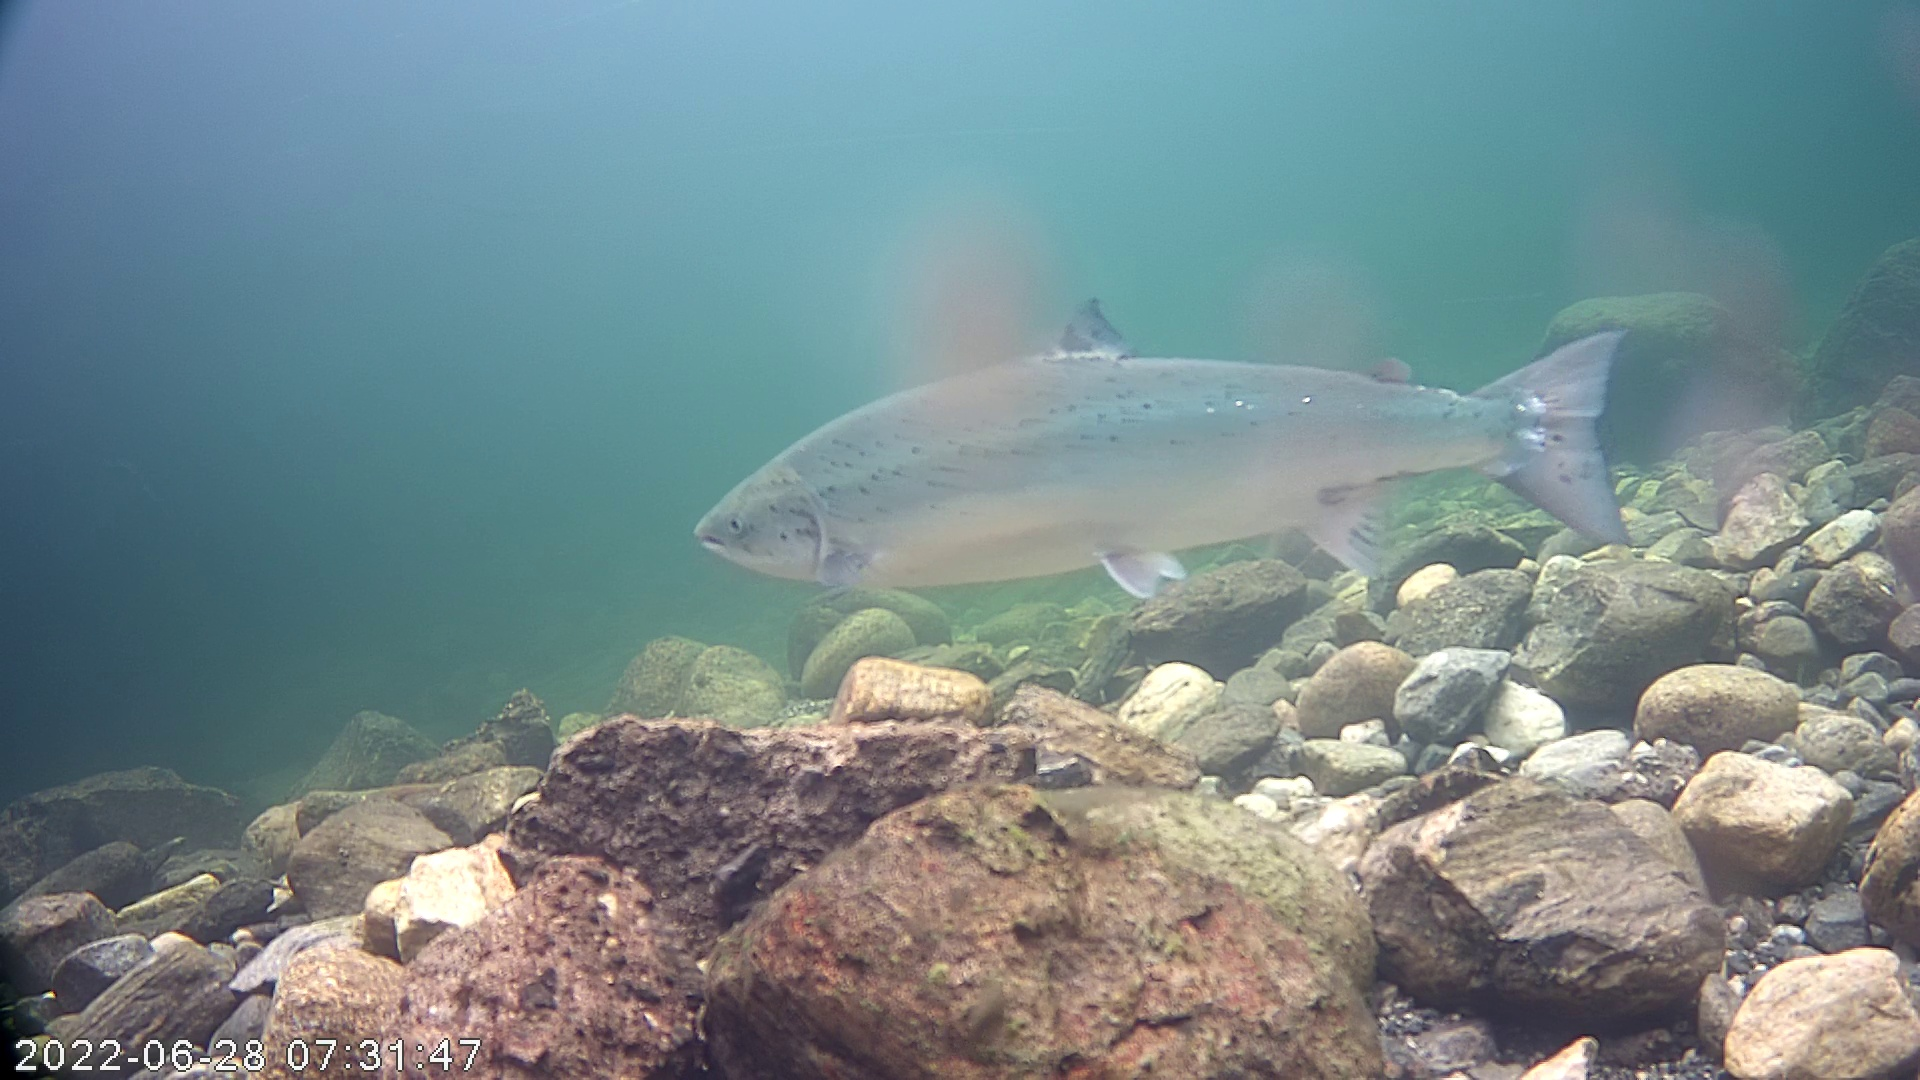salmon: (691, 216, 1659, 666)
